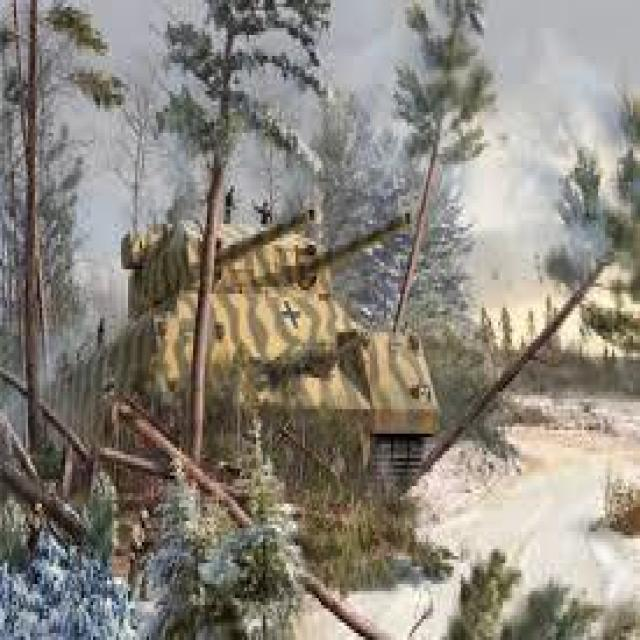MIL_MBT: (64, 234, 441, 511)
